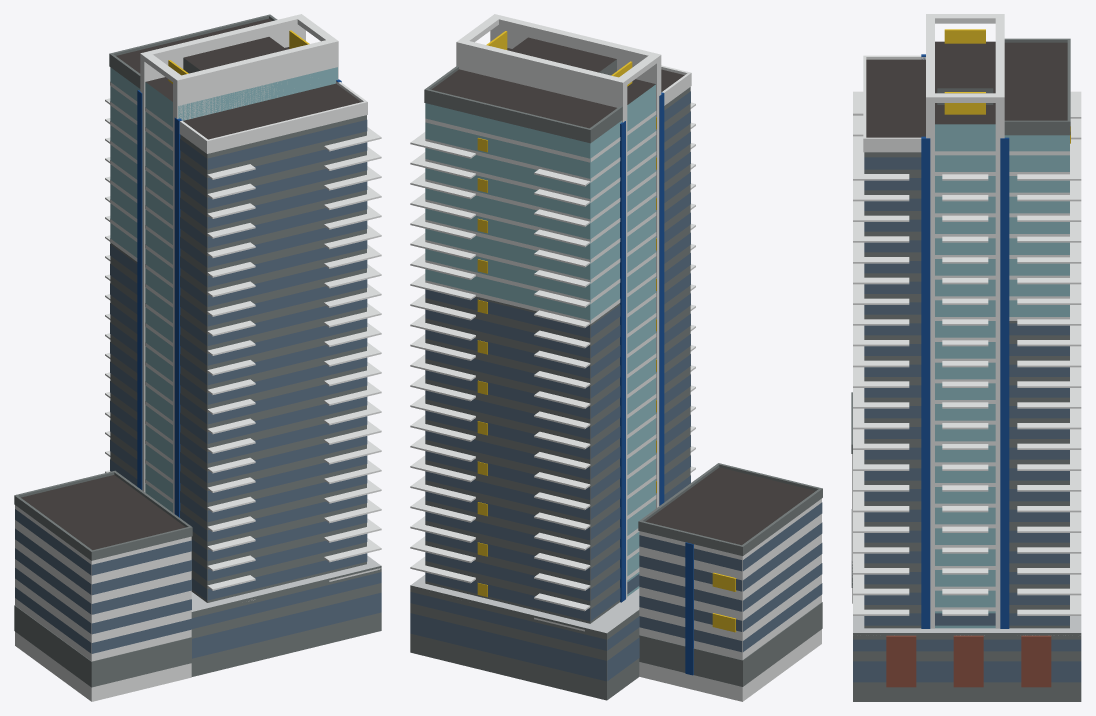
The model's file is br_b262_holyrood_gardens_lod1.gltf.
3 views of the same model, side by side, from view 1: azimuth 30°, elevation 25°; view 2: azimuth 150°, elevation 25°; view 3: azimuth 270°, elevation 25° (orthographic). The views are drawn at different scales.
Visible parts, largest first — view 1: br_b262_holyrood_gardens_lod1; view 2: br_b262_holyrood_gardens_lod1; view 3: br_b262_holyrood_gardens_lod1.
Boxes of the visible parts, <box> form: br_b262_holyrood_gardens_lod1: <box>14,14,381,701</box>; br_b262_holyrood_gardens_lod1: <box>410,14,822,701</box>; br_b262_holyrood_gardens_lod1: <box>851,14,1081,701</box>.
Size of the model in its own units: 47.72 by 88.3 by 30.69.
